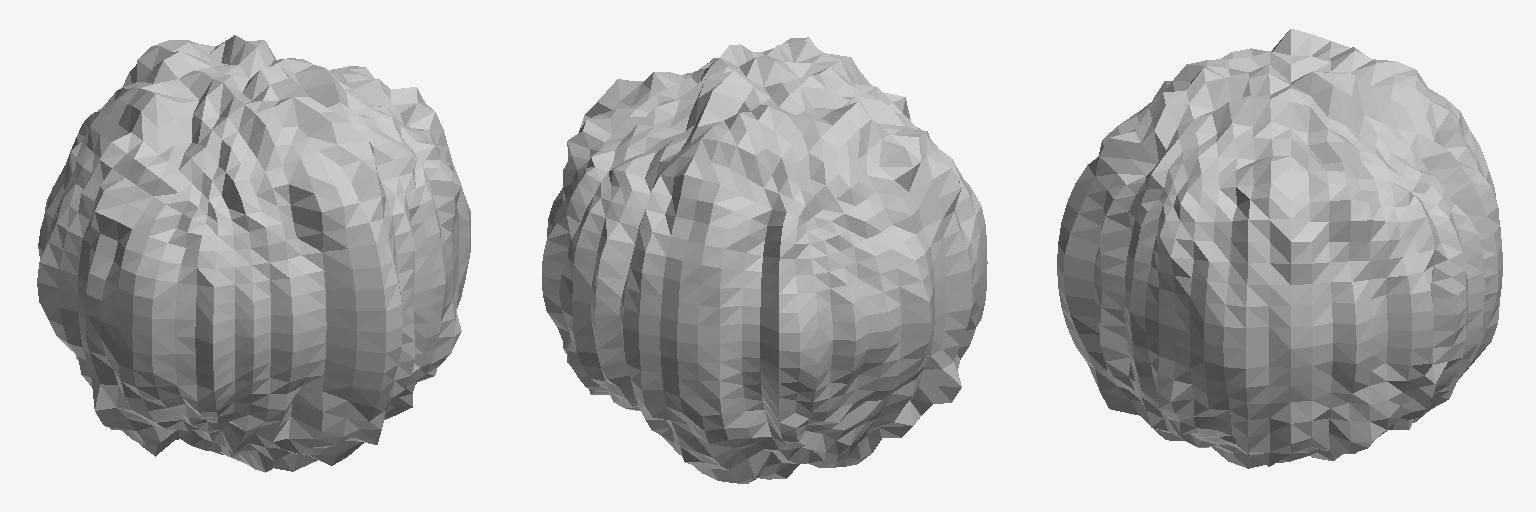
The model's file is asteroid44.obj.
3 views of the same model, side by side, from view 1: azimuth 30°, elevation 25°; view 2: azimuth 150°, elevation 25°; view 3: azimuth 270°, elevation 25° (orthographic).
Parts seen in each view (by area): view 1: Cube_Cube.002; view 2: Cube_Cube.002; view 3: Cube_Cube.002.
Part boxes in pixels (bbox=[...]): Cube_Cube.002: bbox=[37, 35, 470, 472]; Cube_Cube.002: bbox=[542, 37, 987, 483]; Cube_Cube.002: bbox=[1057, 29, 1502, 468].
Bounding box in the file's own units: 1.81 × 1.75 × 1.83.